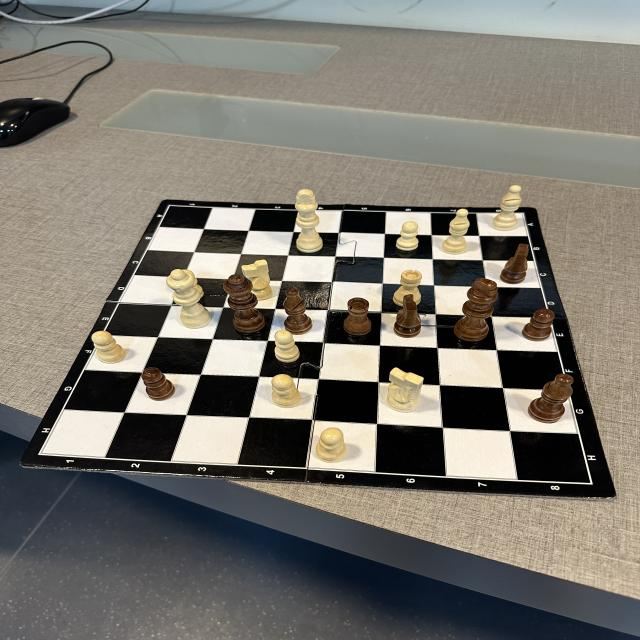Black-Bishop: (527, 374, 574, 424), (284, 287, 312, 335)
Black-King: (453, 278, 498, 342)
Black-Knight: (500, 243, 529, 284), (394, 294, 421, 338)
Black-Pawn: (141, 368, 176, 401), (522, 309, 556, 341)
Black-Queen: (223, 274, 265, 333)
Black-Rook: (342, 296, 372, 336)
White-Bishop: (492, 185, 521, 231), (442, 209, 469, 254)
White-King: (296, 188, 324, 253)
White-Knight: (386, 367, 424, 412), (242, 260, 272, 300)
White-Pawn: (91, 331, 126, 364), (315, 428, 346, 462), (271, 373, 301, 408), (274, 330, 300, 362), (396, 221, 419, 251)
White-Queen: (166, 270, 211, 328)
White-Rook: (393, 270, 422, 306)
